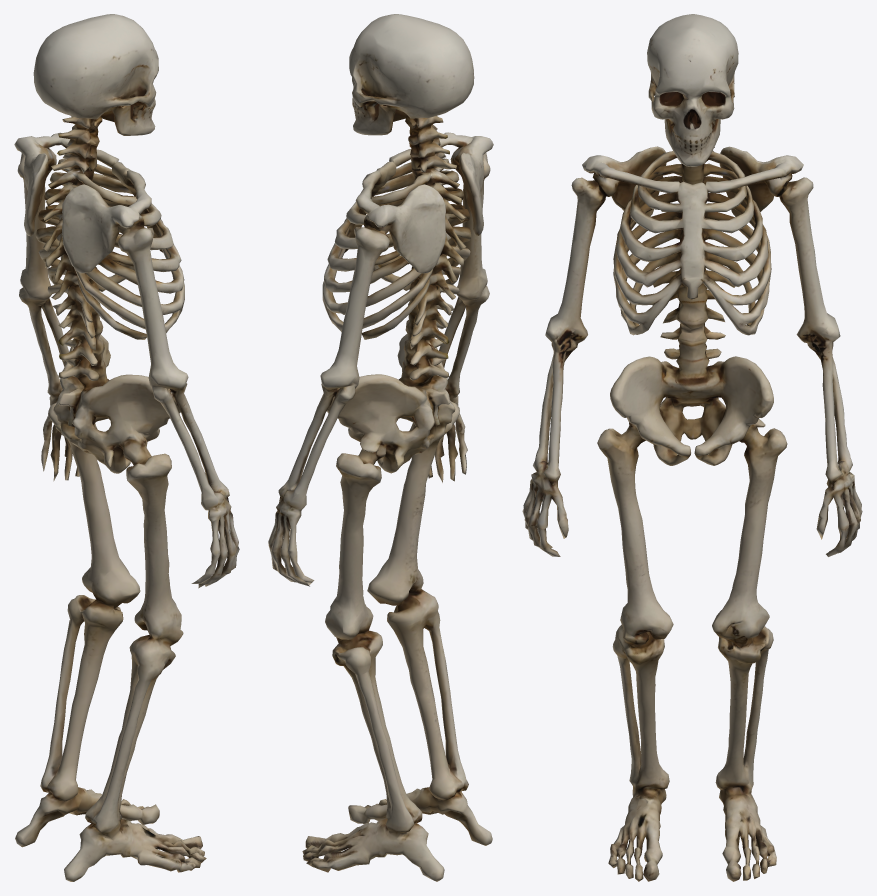
Rendered from skeleton_worn.glb.
3 renders of one model, left to right at view 1: azimuth 30°, elevation 25°; view 2: azimuth 150°, elevation 25°; view 3: azimuth 270°, elevation 25°, orthographic.
Visible parts, largest first — view 1: tripo_node_f7a92426-0c54-4598-9e71-e6c08acbba52; view 2: tripo_node_f7a92426-0c54-4598-9e71-e6c08acbba52; view 3: tripo_node_f7a92426-0c54-4598-9e71-e6c08acbba52.
Part boxes in pixels (x1,y1,x2,y2): tripo_node_f7a92426-0c54-4598-9e71-e6c08acbba52: (14, 14, 239, 881); tripo_node_f7a92426-0c54-4598-9e71-e6c08acbba52: (268, 14, 493, 881); tripo_node_f7a92426-0c54-4598-9e71-e6c08acbba52: (522, 14, 862, 881).
Bounding box in the file's own units: 0.1758 × 1 × 0.3741.
Materials: 1 (1 with a texture image).
